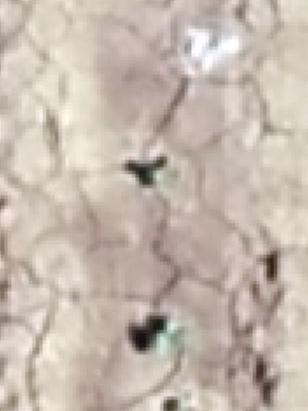cotton: (159, 324, 183, 349), (154, 169, 178, 189)
